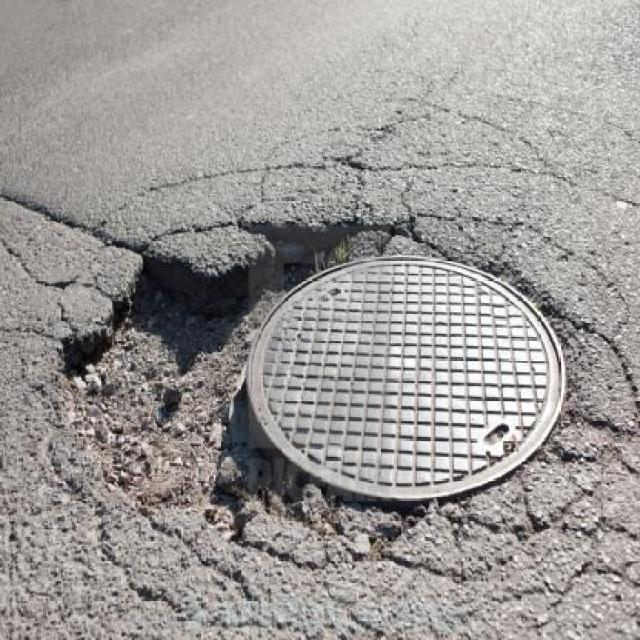Manhole: (240, 245, 583, 510)
Pothole: (49, 230, 248, 398), (66, 388, 238, 512), (249, 212, 395, 260)
